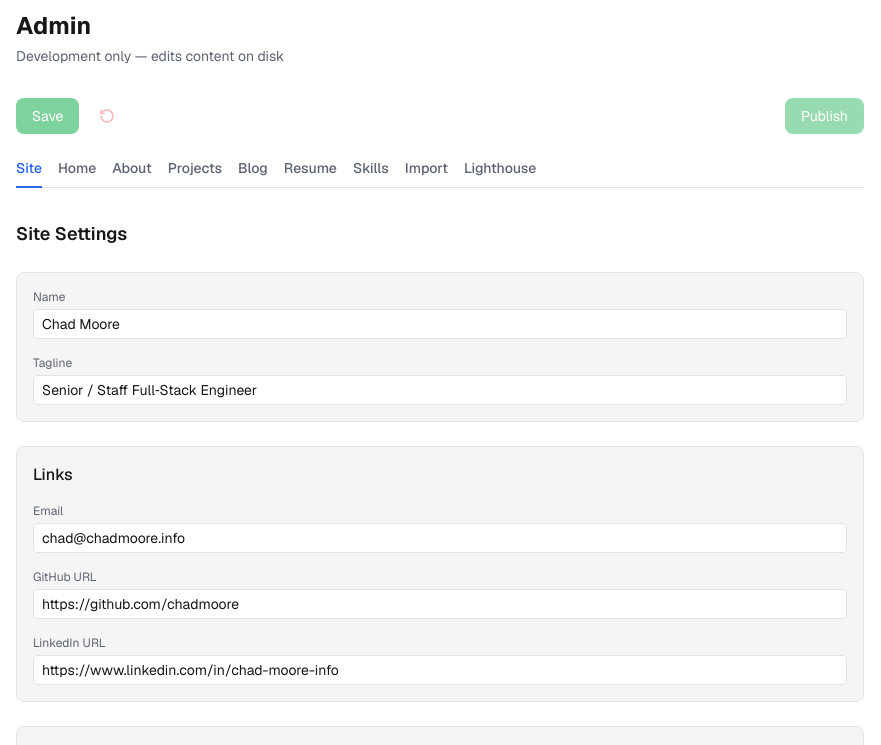
AdminPage › renders skill categories after switching to skills tab
Expected: the heading "Site Settings" is shown, [16,222,127,245]
Click the button "Skills".
click(371, 173)  # box [353,158,389,188]
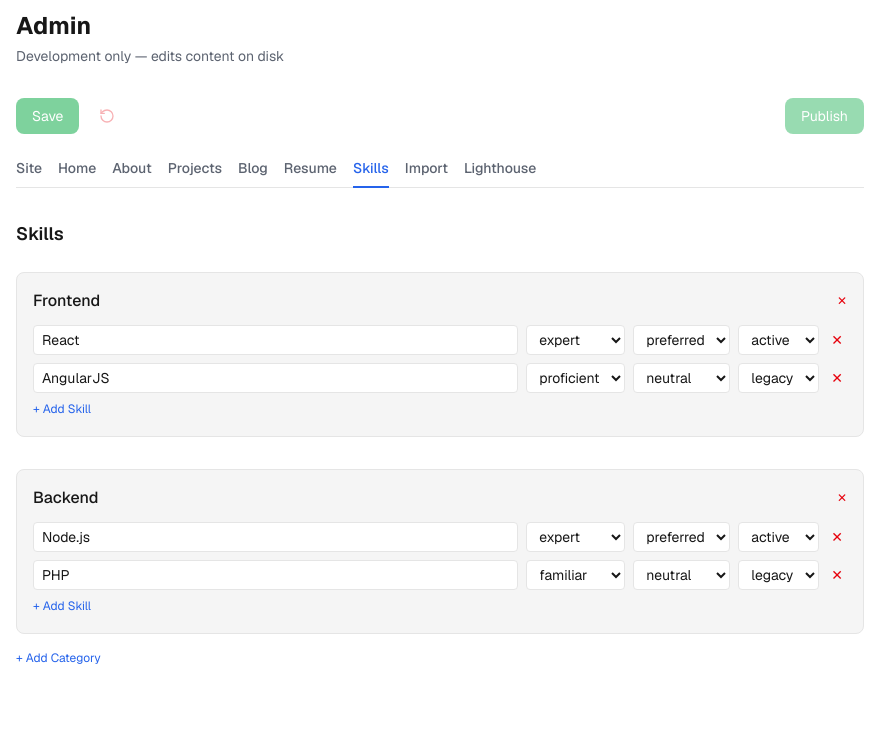
Expected: the heading "Frontend" is shown, [33,289,100,313]
Expected: the heading "Backend" is shown, [33,486,98,510]
